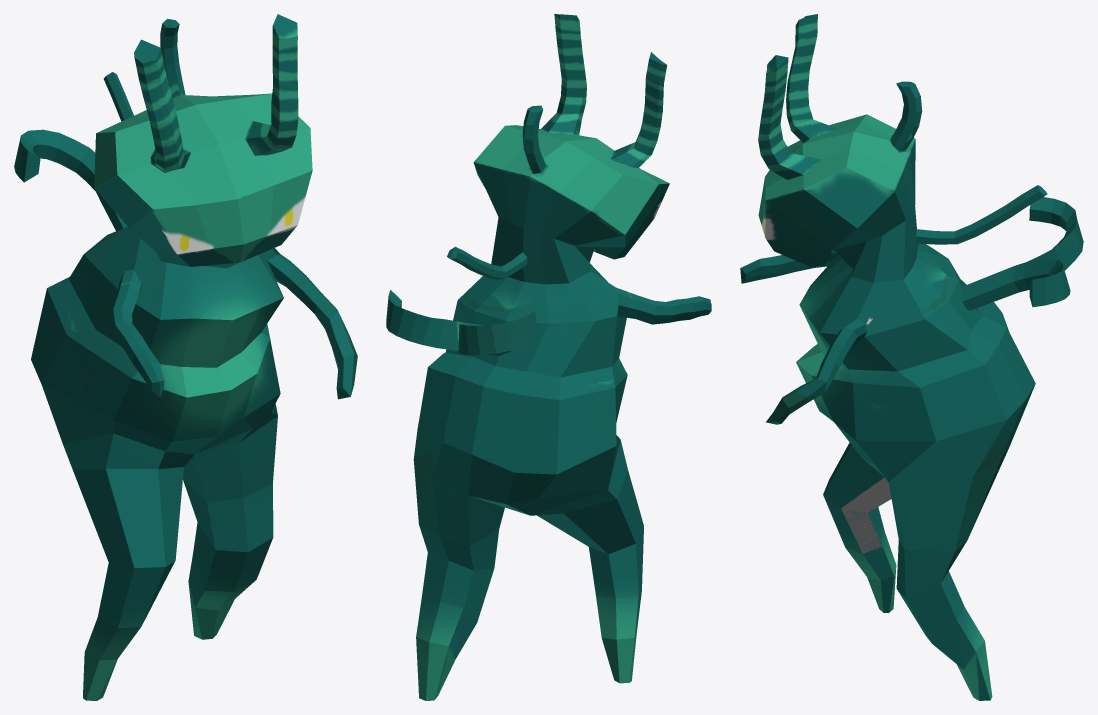
File: monstruo1_caminar_4.obj
3 views of the same model, side by side, from view 1: azimuth 30°, elevation 25°; view 2: azimuth 150°, elevation 25°; view 3: azimuth 270°, elevation 25° (orthographic). The views are drawn at different scales.
Parts seen in each view (by area): view 1: Monstruo_basico; view 2: Monstruo_basico; view 3: Monstruo_basico.
Part boxes in pixels (x1,y1,x2,y2): Monstruo_basico: (14,14,357,700); Monstruo_basico: (386,14,711,700); Monstruo_basico: (740,14,1083,700).
Size of the model in its own units: 0.355 by 1.03 by 0.5157.
